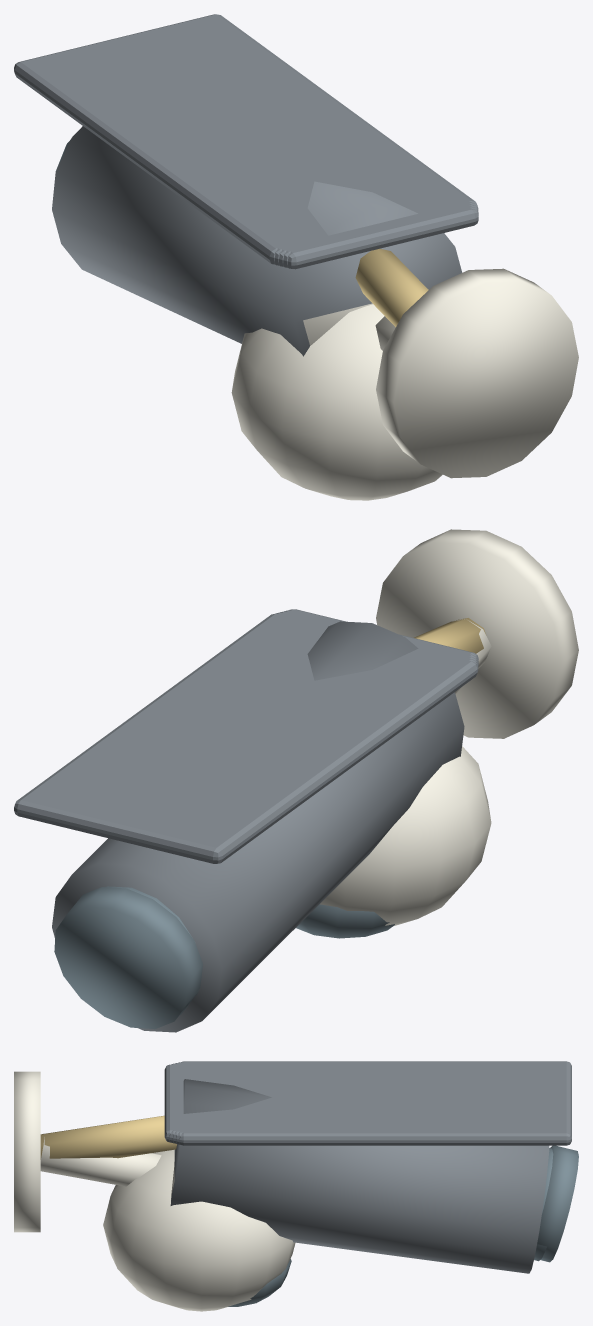
Rendered from Gear12.fbx.
The picture shows the model from 3 angles, top to bottom: view 1: azimuth 30°, elevation 25°; view 2: azimuth 150°, elevation 25°; view 3: azimuth 270°, elevation 25°; orthographic projection. The views are drawn at different scales.
Parts seen in each view (by area): view 1: Gear12_V10_Graphite, Gear12_V1_Ivory, Gear12_V3_Ivory, Gear12_V6_Graphite, Gear12_V10_Brass, Gear12_V9_Graphite, Gear12_V4_Ivory; view 2: Gear12_V10_Graphite, Gear12_V1_Ivory, Gear12_V10_Glass, Gear12_V3_Ivory, Gear12_V3_Glass, Gear12_V10_Brass, Gear12_V9_Graphite, Gear12_V6_Graphite; view 3: Gear12_V10_Graphite, Gear12_V3_Ivory, Gear12_V1_Ivory, Gear12_V10_Brass, Gear12_V9_Graphite, Gear12_V10_Glass, Gear12_V6_Graphite, Gear12_V3_Glass, Gear12_V7_Graphite, Gear12_V9_Glass.
Boxes of the visible parts, x1,y1,x2,y2 form: Gear12_V10_Graphite: [14, 14, 478, 356]; Gear12_V1_Ivory: [375, 268, 578, 478]; Gear12_V3_Ivory: [231, 304, 442, 500]; Gear12_V6_Graphite: [287, 204, 478, 347]; Gear12_V10_Brass: [355, 248, 428, 327]; Gear12_V9_Graphite: [52, 62, 478, 354]; Gear12_V4_Ivory: [305, 303, 372, 344]; Gear12_V10_Graphite: [14, 613, 478, 1032]; Gear12_V1_Ivory: [376, 529, 578, 738]; Gear12_V10_Glass: [54, 887, 202, 1029]; Gear12_V3_Ivory: [320, 746, 491, 926]; Gear12_V3_Glass: [296, 904, 394, 938]; Gear12_V10_Brass: [414, 618, 486, 653]; Gear12_V9_Graphite: [188, 612, 478, 840]; Gear12_V6_Graphite: [287, 609, 478, 659]; Gear12_V10_Graphite: [170, 1061, 571, 1273]; Gear12_V3_Ivory: [103, 1149, 295, 1311]; Gear12_V1_Ivory: [14, 1071, 161, 1232]; Gear12_V10_Brass: [40, 1115, 176, 1159]; Gear12_V9_Graphite: [170, 1062, 318, 1204]; Gear12_V10_Glass: [537, 1145, 578, 1262]; Gear12_V6_Graphite: [164, 1064, 179, 1198]; Gear12_V3_Glass: [228, 1258, 291, 1306]; Gear12_V7_Graphite: [169, 1063, 179, 1200]; Gear12_V9_Glass: [534, 1148, 553, 1261].
Bounding box in the file's own units: 14.7 × 18.3 × 42.16.
